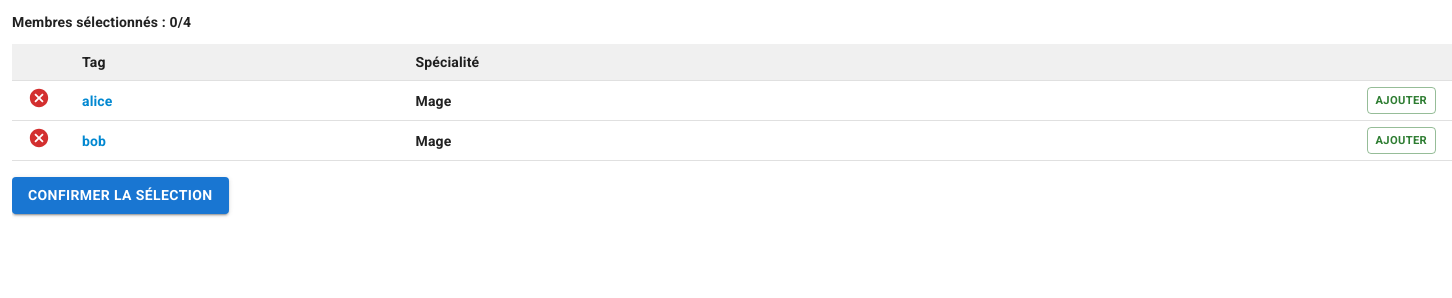
Test: SelectionMemberList › handleConfirm shows conflicting tag when handleToggle throws
Click the button "Ajouter" in the row of "alice".
click(1401, 100)  # box [1366, 87, 1436, 114]
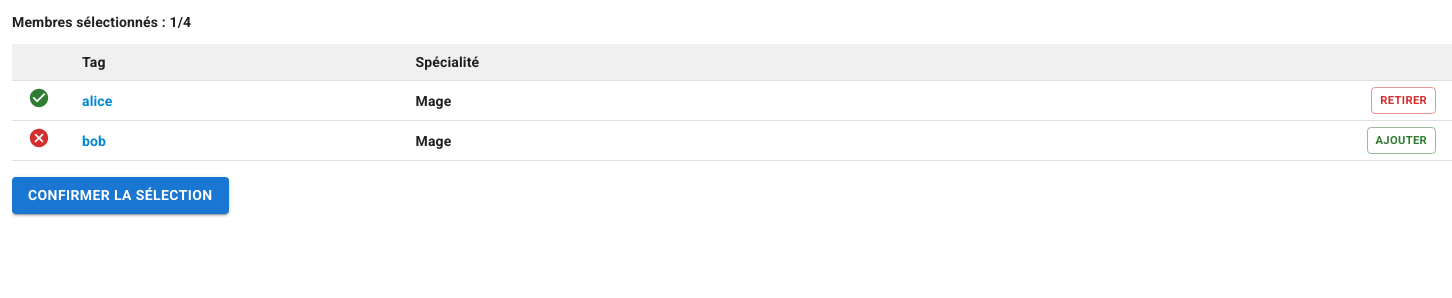
Click the button "Confirmer la sélection".
click(120, 195)  # box [12, 177, 229, 214]
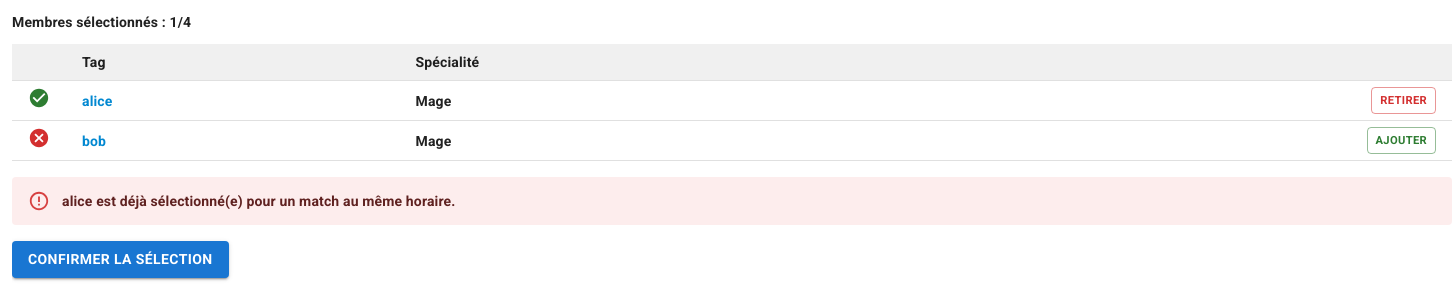
Check: the text "alice est déjà sélectionné(e) pour un match au même horaire." is shown, box [62, 193, 456, 209]
